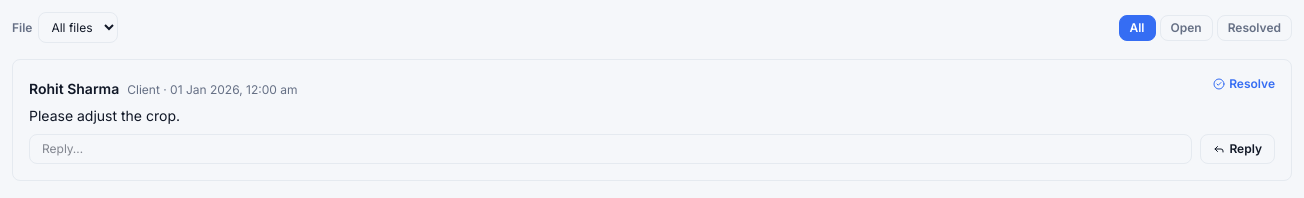
Scenario: CommentsTab resolve › shows an error and keeps the comment open on a handled failure
Click the button "Resolve". click: [1244, 84]
box: left=1213, top=76, right=1275, bottom=92
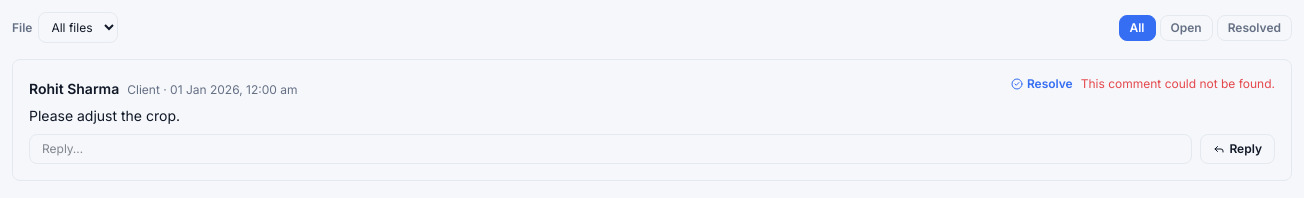
Check: the button "Resolve" is shown, box left=1011, top=76, right=1073, bottom=92
Check: the message reads "This comment could not be found.", box left=1081, top=76, right=1275, bottom=91
